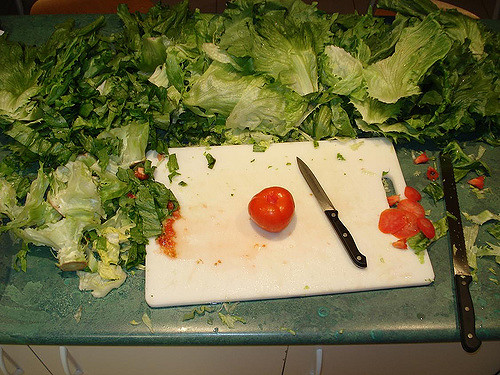chopped lettuce: (3, 26, 494, 129), (17, 139, 146, 286)
